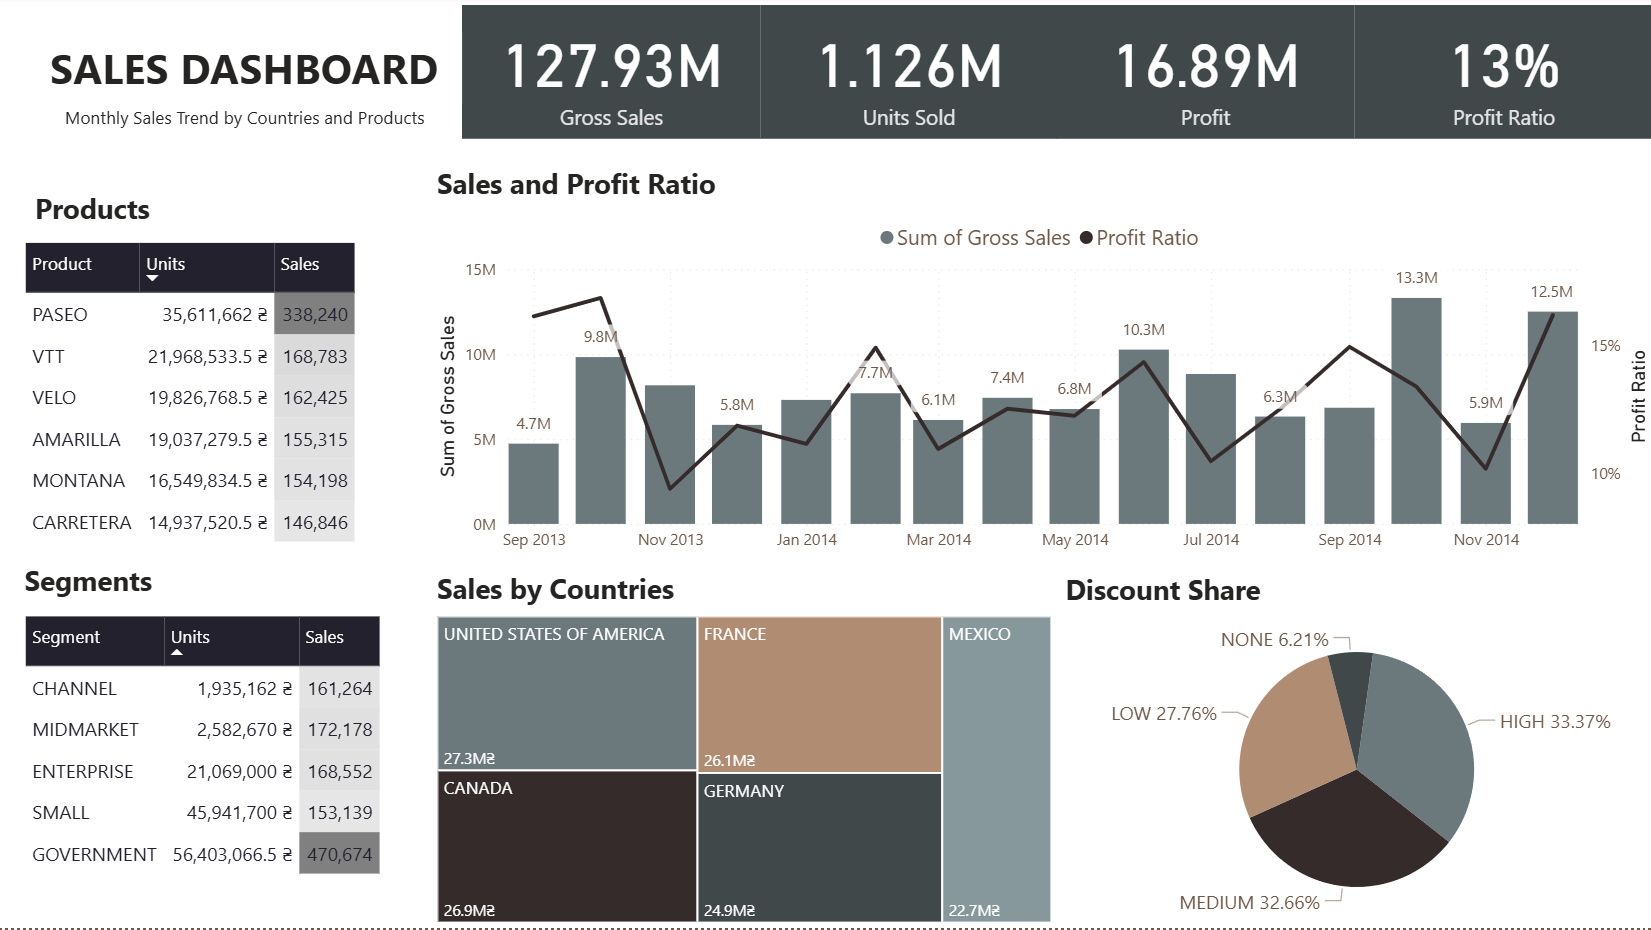

This screenshot's page, from the dashboard's own definition file:
{"tool":"powerbi","page":{"name":"Page 1","canvas":[1280,720],"ordinal":0},"visuals":[{"type":"card","fields":{"Values":["Sum(financials.Gross Sales)"]},"box":[359.2,7,230.4,103.1],"z":0,"group":"g1"},{"type":"lineStackedColumnComboChart","fields":{"Category":["Calendar.Date"],"Y":["Sum(financials.Gross Sales)"],"Y2":["_calc.Profit Ratio"]},"box":[334.6,164.4,945,272.9],"z":0},{"type":"card","fields":{"Values":["Sum(financials.Units Sold)"]},"box":[589.6,7,228.8,103.1],"z":1000,"group":"g1"},{"type":"group","id":"g1","title":"Group 1","box":[359.2,7,920,103.1],"z":1000},{"type":"card","fields":{"Values":["Sum(financials.Profit)"]},"box":[818.4,7,230.4,103.1],"z":2000,"group":"g1"},{"type":"tableEx","fields":{"Values":["financials.Product","Sum(financials.Gross Sales)","Sum(financials.Units Sold)"]},"box":[16.1,184.9,318.4,252.4],"z":2000},{"type":"card","fields":{"Values":["_calc.Profit Ratio"]},"box":[1048.8,7,230.4,103.1],"z":3000,"group":"g1"},{"type":"tableEx","fields":{"Values":["financials.Segment","Sum(financials.Gross Sales)","Sum(financials.Units Sold)"]},"box":[16.1,474,343.4,246.5],"z":3000},{"type":"treemap","fields":{"Group":["financials.Country"],"Values":["Sum(financials.Gross Sales)"]},"box":[334.6,474,484.2,246.5],"z":4000},{"type":"pieChart","fields":{"Category":["financials.Discount Band"],"Y":["Sum(financials.Gross Sales)"]},"box":[820.3,474,459.3,246.5],"z":5000},{"type":"textbox","box":[35.9,27.8,323.3,55.6],"z":6000},{"type":"textbox","box":[47.5,78.8,301.3,31.3],"z":7000},{"type":"textbox","box":[16.2,431,135.6,42.9],"z":8000},{"type":"textbox","box":[24.3,143.7,117,44],"z":9000},{"type":"textbox","box":[334.9,124,234.1,41.7],"z":10000},{"type":"textbox","box":[334.9,436.8,207.4,41.7],"z":11000},{"type":"textbox","box":[820.4,438,181.9,39.4],"z":12000}]}

Visuals, with their boxes in screenshot pixels (x1, y1, x2, y2), scaled from the page's 1280x720 canvas onto the 1651x930 screenshot:
card - Sum(financials.Gross Sales): [left=463, top=9, right=760, bottom=142]
lineStackedColumnComboChart - Calendar.Date x Sum(financials.Gross Sales): [left=432, top=212, right=1650, bottom=565]
card - Sum(financials.Units Sold): [left=760, top=9, right=1056, bottom=142]
"Group 1" group: [left=463, top=9, right=1650, bottom=142]
card - Sum(financials.Profit): [left=1056, top=9, right=1353, bottom=142]
tableEx - financials.Product x Sum(financials.Gross Sales): [left=21, top=239, right=431, bottom=565]
card - _calc.Profit Ratio: [left=1353, top=9, right=1650, bottom=142]
tableEx - financials.Segment x Sum(financials.Gross Sales): [left=21, top=612, right=464, bottom=929]
treemap - financials.Country x Sum(financials.Gross Sales): [left=432, top=612, right=1056, bottom=929]
pieChart - financials.Discount Band x Sum(financials.Gross Sales): [left=1058, top=612, right=1650, bottom=929]
textbox: [left=46, top=36, right=463, bottom=108]
textbox: [left=61, top=102, right=450, bottom=142]
textbox: [left=21, top=557, right=196, bottom=612]
textbox: [left=31, top=186, right=182, bottom=242]
textbox: [left=432, top=160, right=734, bottom=214]
textbox: [left=432, top=564, right=699, bottom=618]
textbox: [left=1058, top=566, right=1293, bottom=617]
